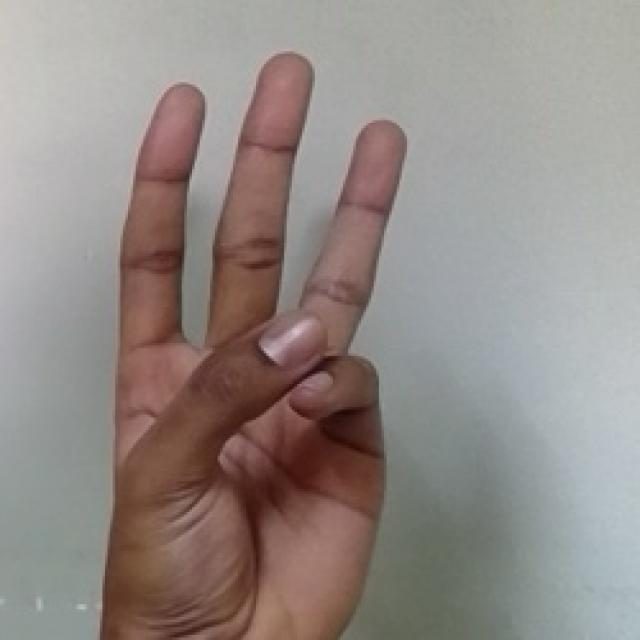Numeric-6: (104, 44, 409, 625)
